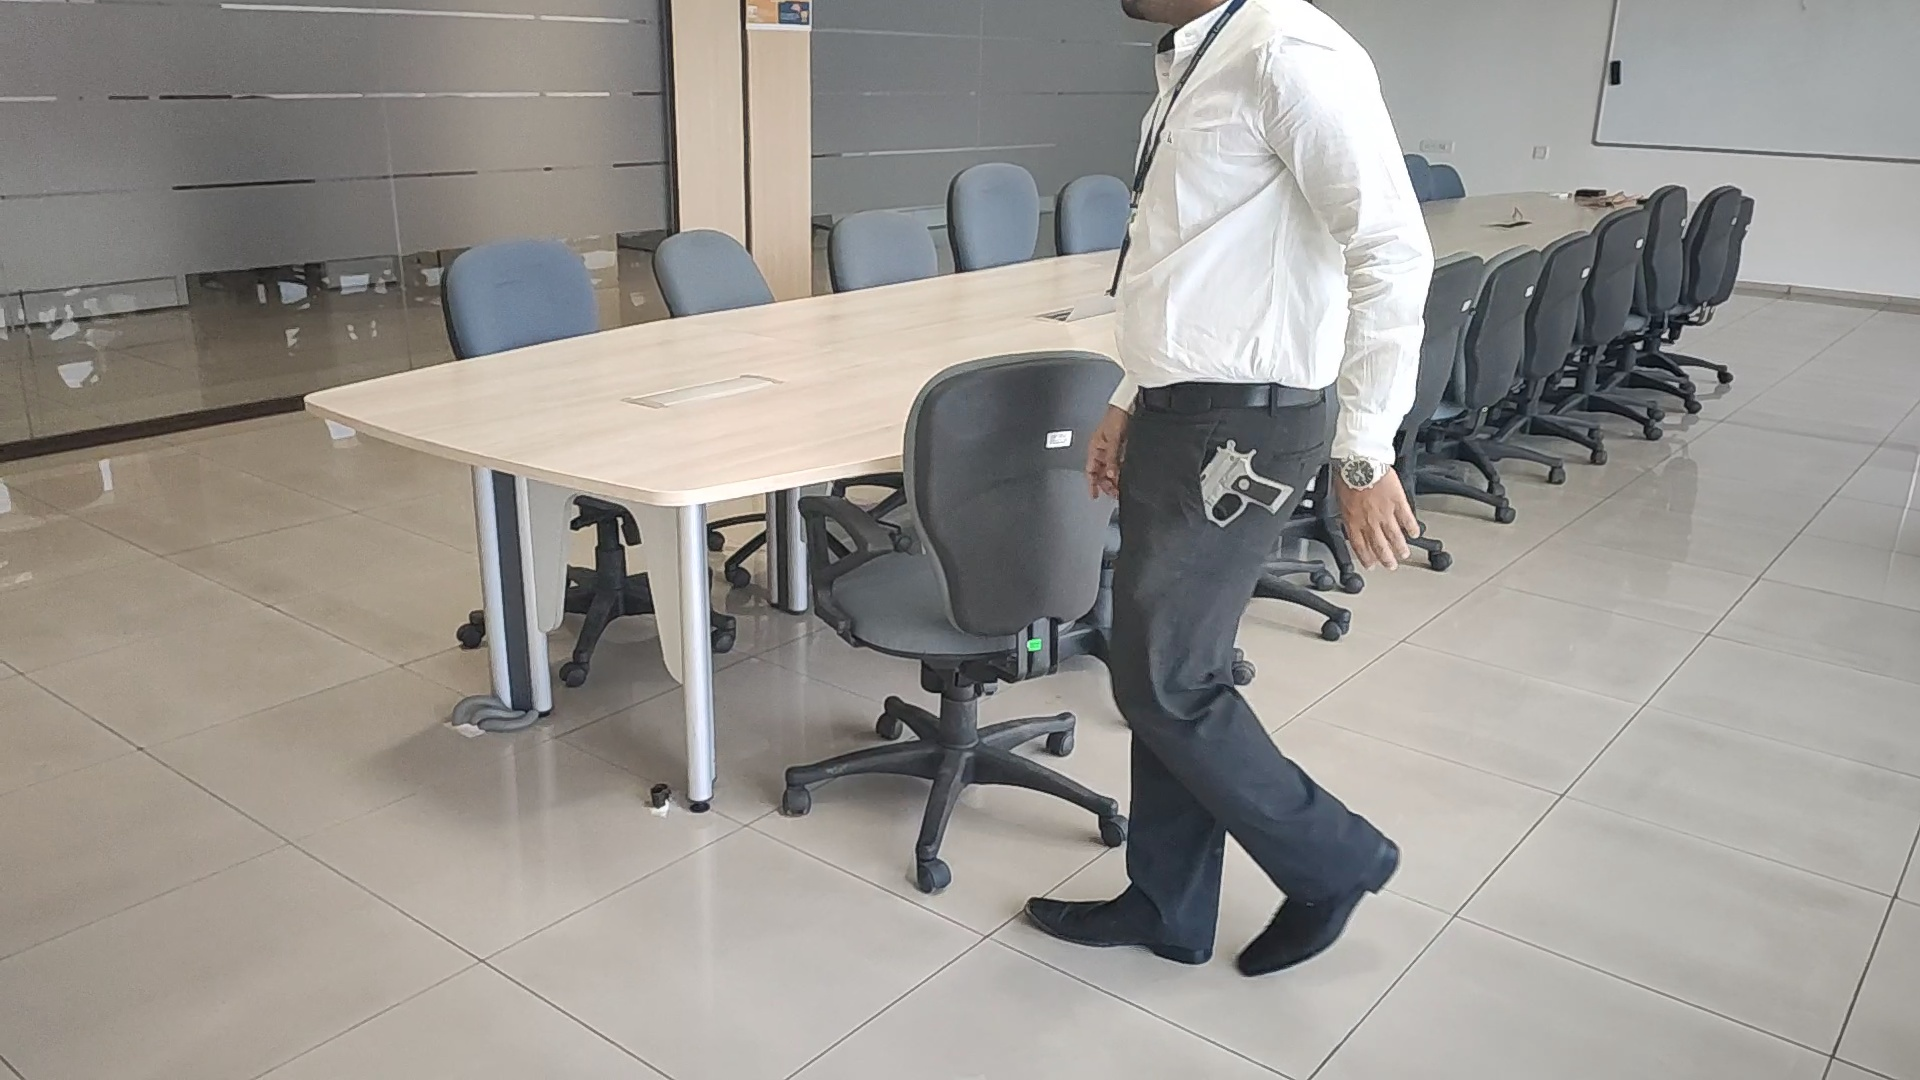gun: (1195, 436, 1294, 530)
